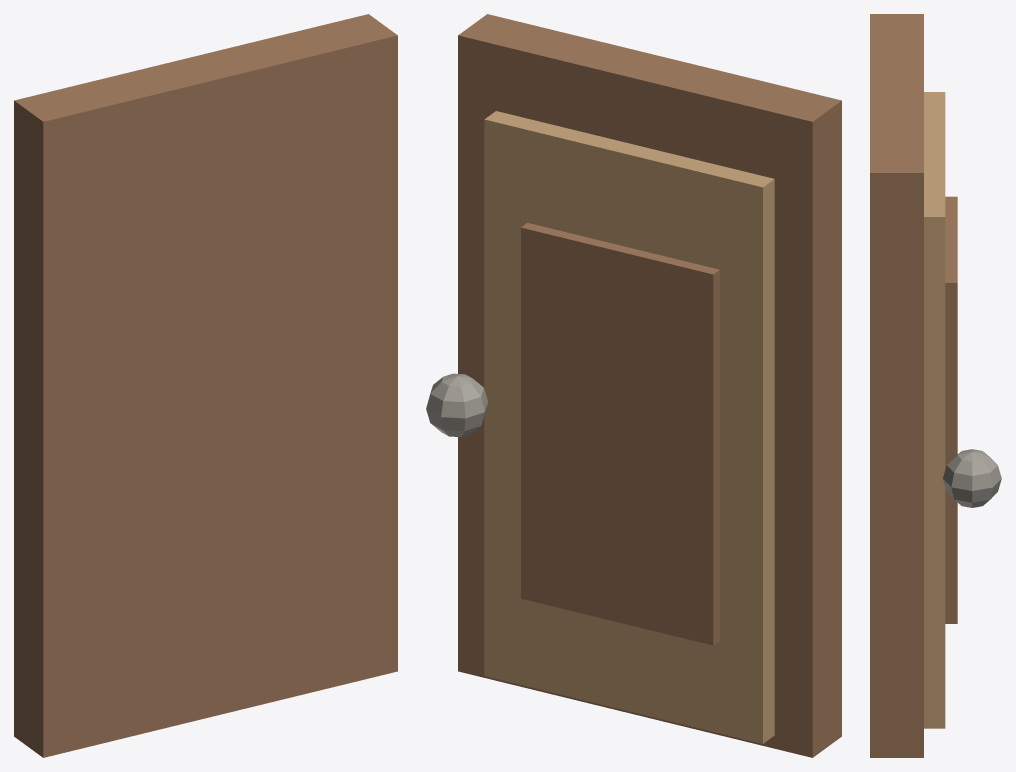
The model's file is wooden_door.glb.
The picture shows the model from 3 angles, left to right: view 1: azimuth 30°, elevation 25°; view 2: azimuth 150°, elevation 25°; view 3: azimuth 270°, elevation 25°; orthographic projection. The views are drawn at different scales.
Parts seen in each view (by area): view 1: WoodenDoor; view 2: WoodenDoor; view 3: WoodenDoor.
Part boxes in pixels (bbox=[...]): WoodenDoor: bbox=[14, 14, 397, 757]; WoodenDoor: bbox=[426, 14, 841, 757]; WoodenDoor: bbox=[870, 14, 1001, 757].
Size of the model in its own units: 0.705 by 1.2 by 0.245.
